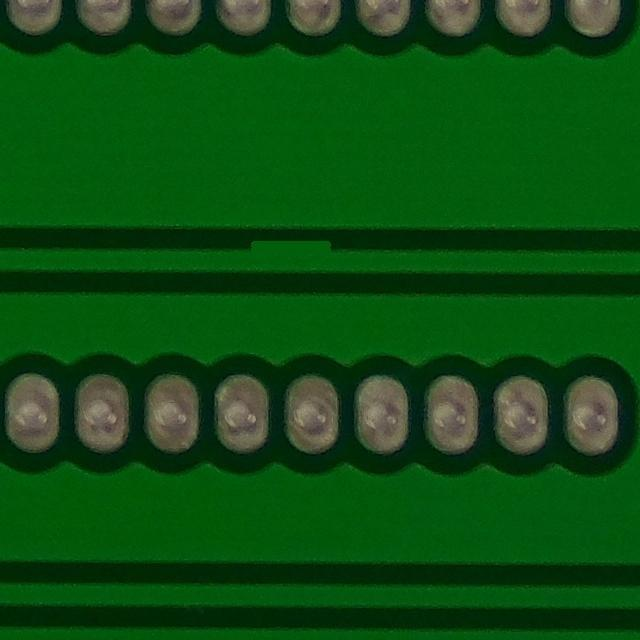spur: (229, 221, 348, 271)
